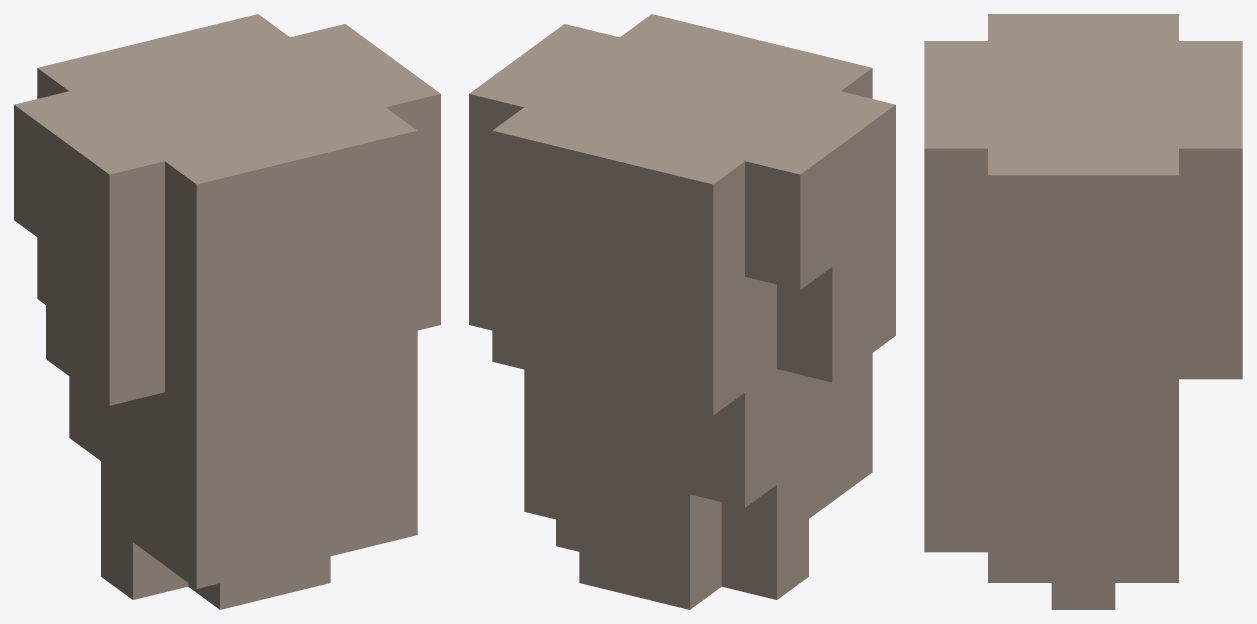
File: Arm_D.obj
The picture shows the model from 3 angles, left to right: view 1: azimuth 30°, elevation 25°; view 2: azimuth 150°, elevation 25°; view 3: azimuth 270°, elevation 25°; orthographic projection.
Size of the model in its own units: 0.6 by 0.8 by 0.5.
Materials: 1 (1 with a texture image).
